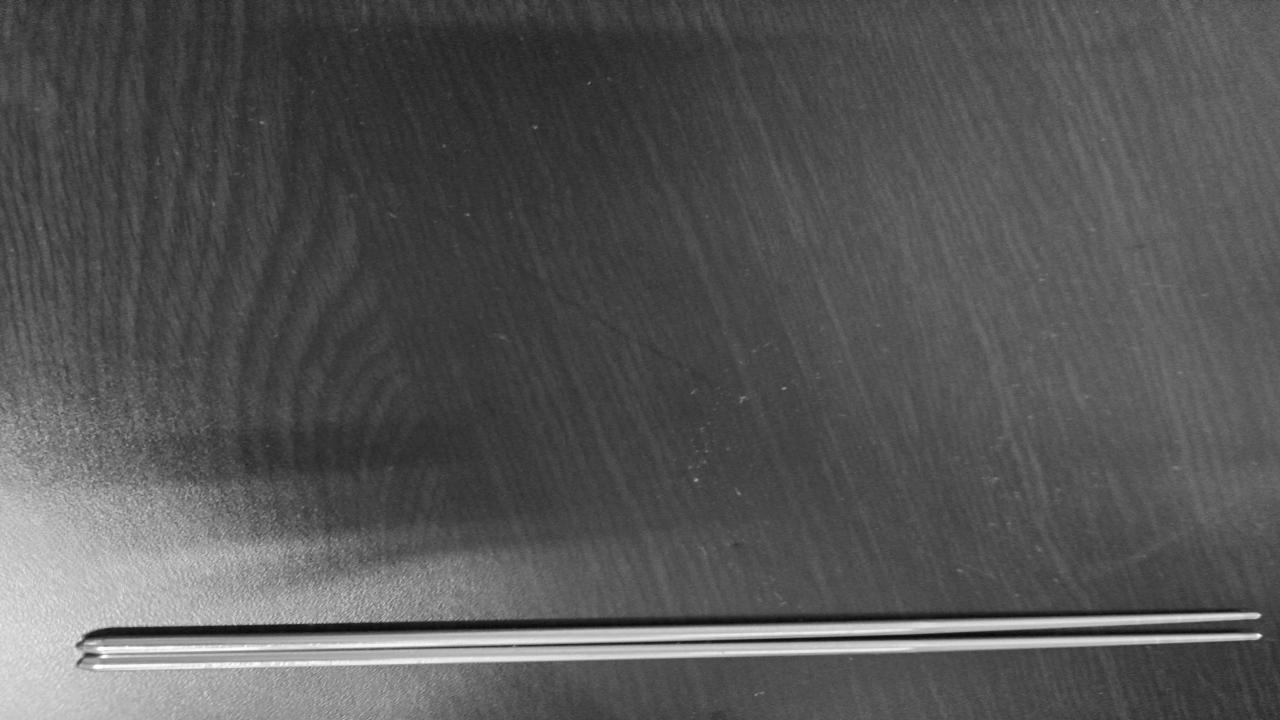chopstick: (79, 613, 1256, 670)
